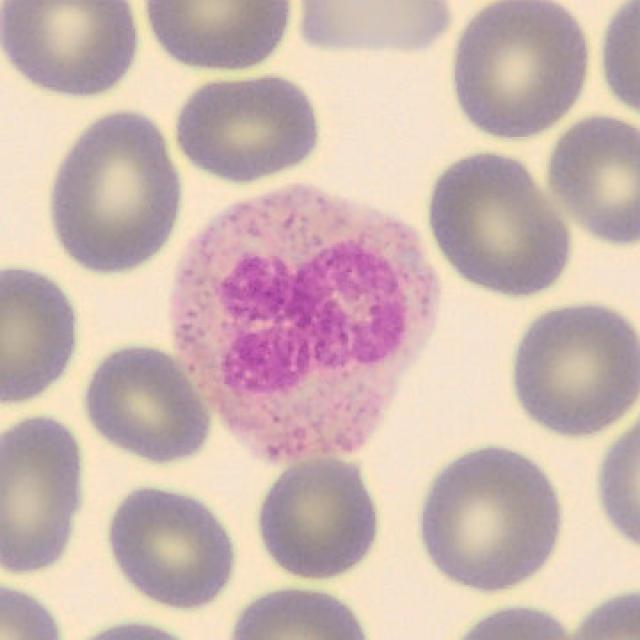Neutrofilo segmentado: (166, 177, 441, 467)
